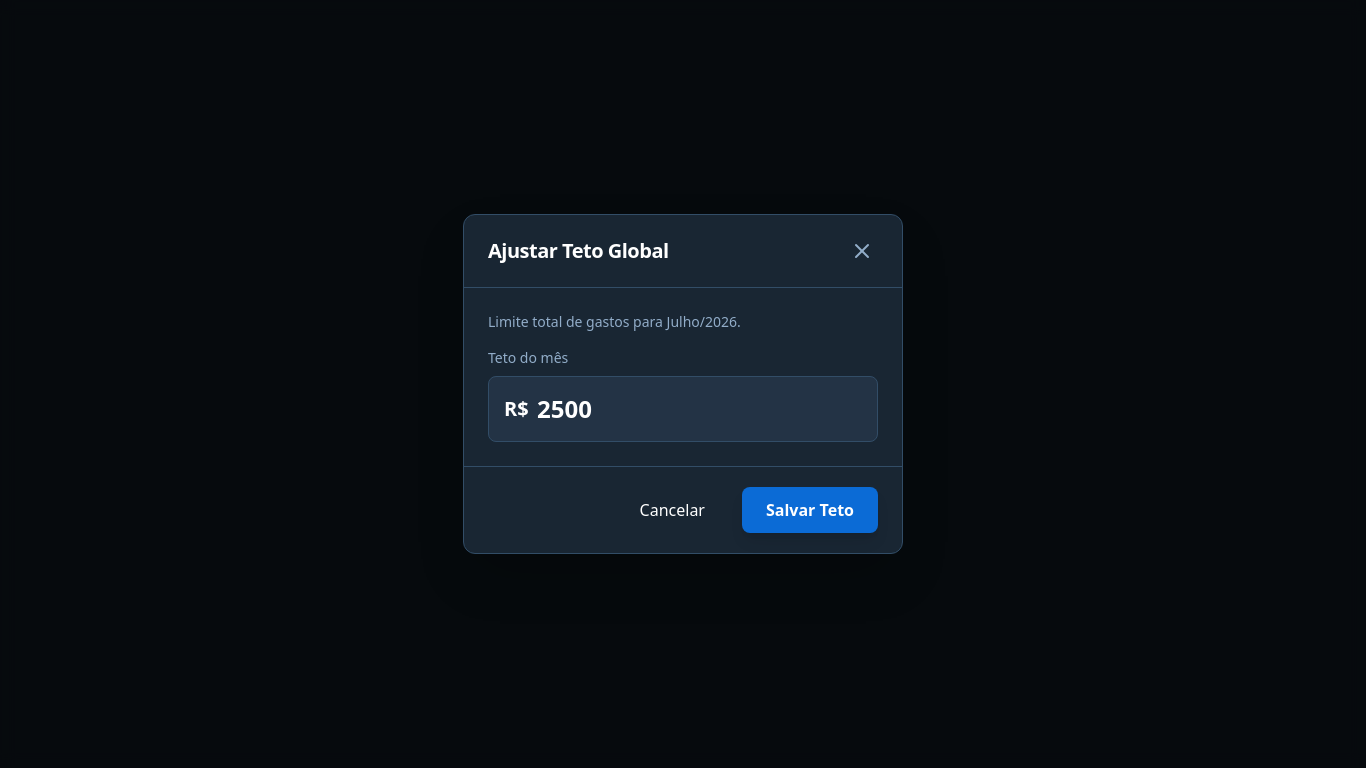
Test: GlobalBudgetModal › INVALID_CEILING no PUT mostra a mensagem pt-BR no banner
Step 1. Replace the text in the field labelled "Teto do mês" with "10" → point(683, 409), box [488,376,878,442]
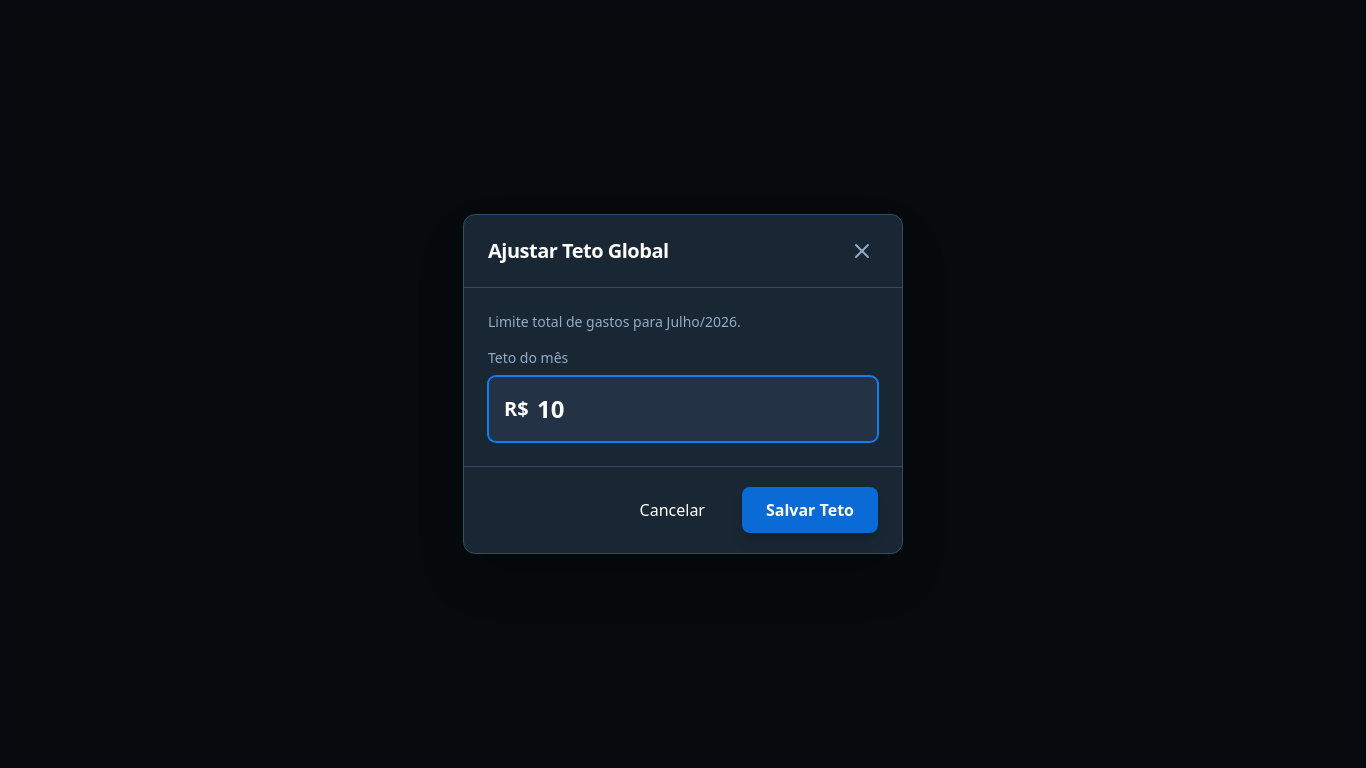
Step 2. Click the button "Salvar Teto" → point(810, 510), box [742,487,878,533]
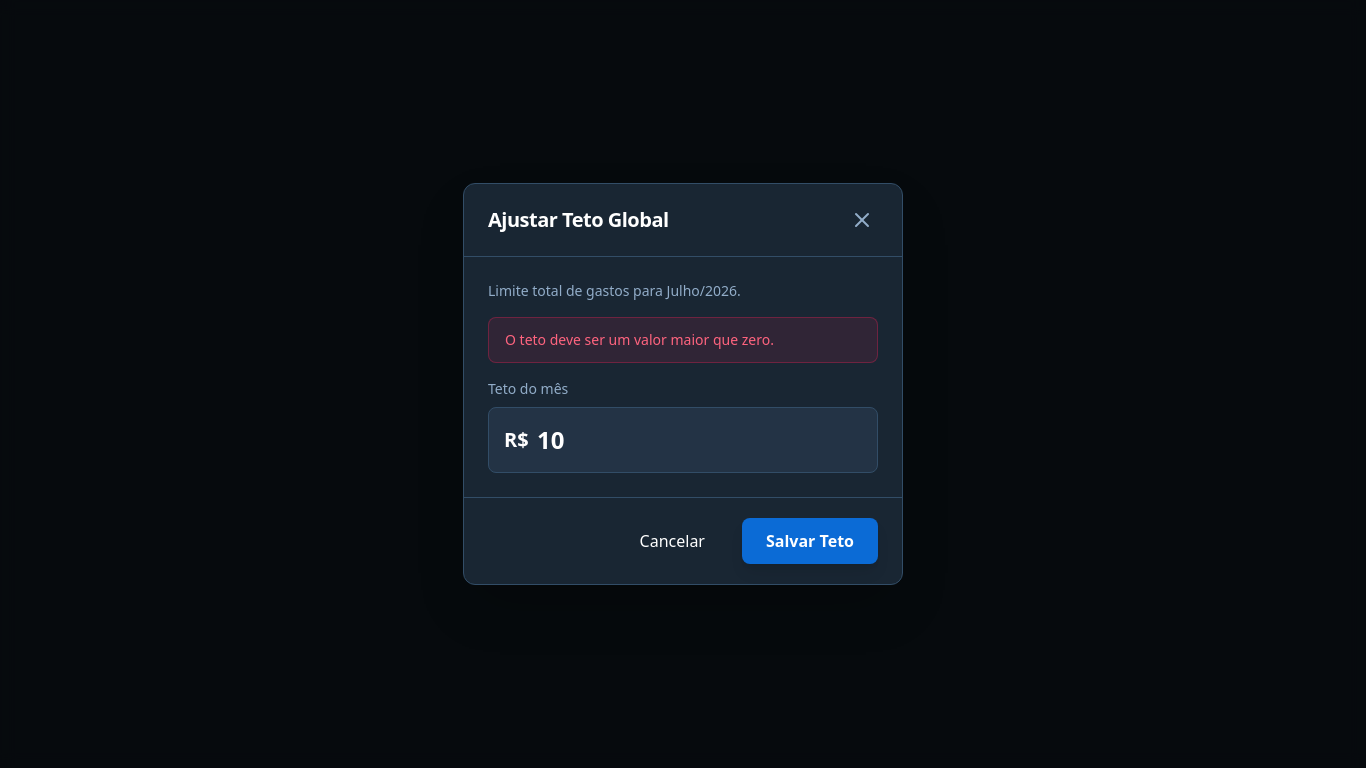
Result: the text "O teto deve ser um valor maior que zero." is shown at [505,330,774,349]
